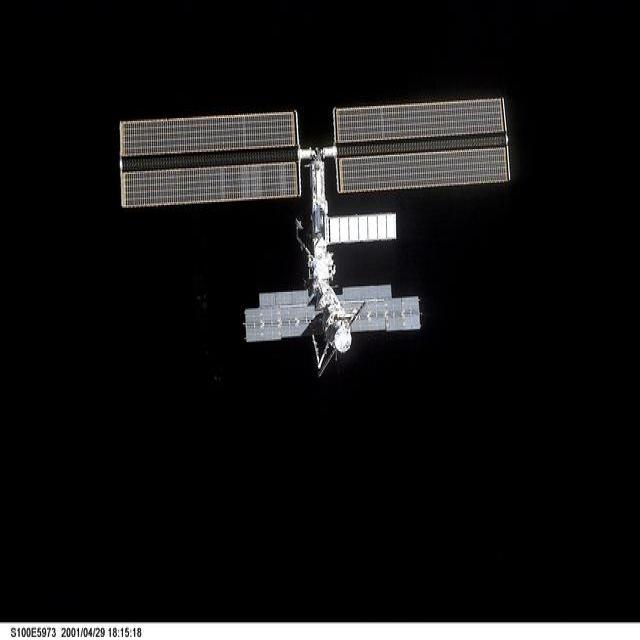satellite: (120, 98, 510, 373)
